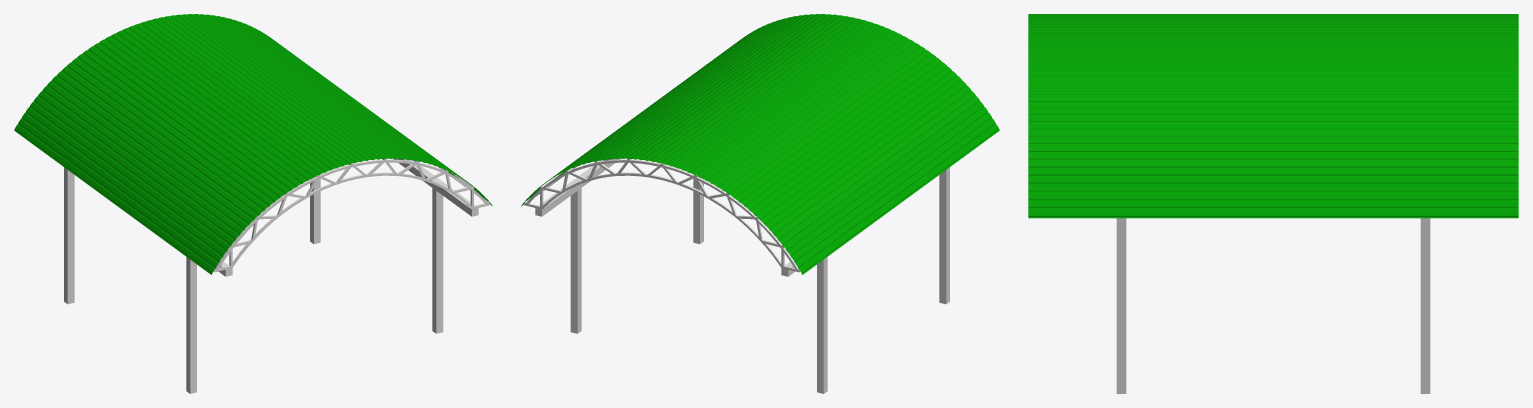
Rendered from carport_5x4.glb.
The picture shows the model from 3 angles, left to right: view 1: azimuth 30°, elevation 25°; view 2: azimuth 150°, elevation 25°; view 3: azimuth 270°, elevation 25°; orthographic projection. The views are drawn at different scales.
Parts seen in each view (by area): view 1: instance_5, instance_0, group_3, group_7, group_6, group_4, group_2; view 2: instance_5, instance_1, group_2, group_6, group_7, group_4, group_3; view 3: instance_5, group_2, group_3.
Boxes of the visible parts, x1,y1,x2,y2 form: instance_5: (14, 14, 492, 274); instance_0: (215, 159, 489, 272); group_3: (432, 188, 443, 333); group_7: (186, 257, 196, 393); group_6: (64, 167, 74, 304); group_4: (393, 158, 478, 216); group_2: (310, 176, 320, 244); instance_5: (521, 14, 999, 274); instance_1: (524, 159, 798, 272); group_2: (570, 188, 581, 333); group_6: (817, 257, 827, 393); group_7: (939, 167, 949, 304); group_4: (535, 158, 620, 216); group_3: (693, 176, 703, 244); instance_5: (1028, 14, 1518, 218); group_2: (1420, 218, 1430, 393); group_3: (1116, 218, 1126, 393).
Size of the model in its own units: 4.12 by 3.16 by 5.
